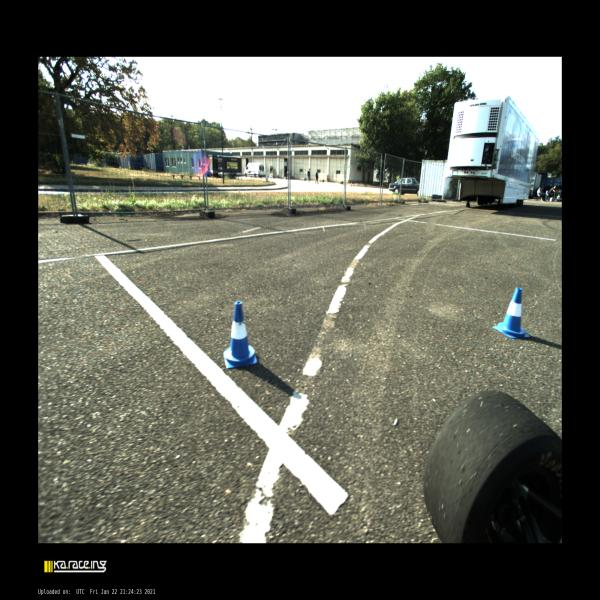blue_cone: (223, 302, 257, 368), (493, 288, 529, 338)
